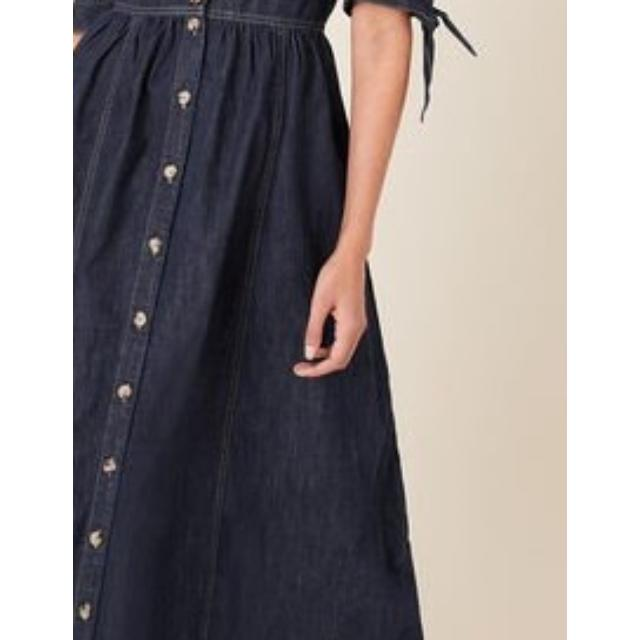denim: (82, 0, 292, 640)
